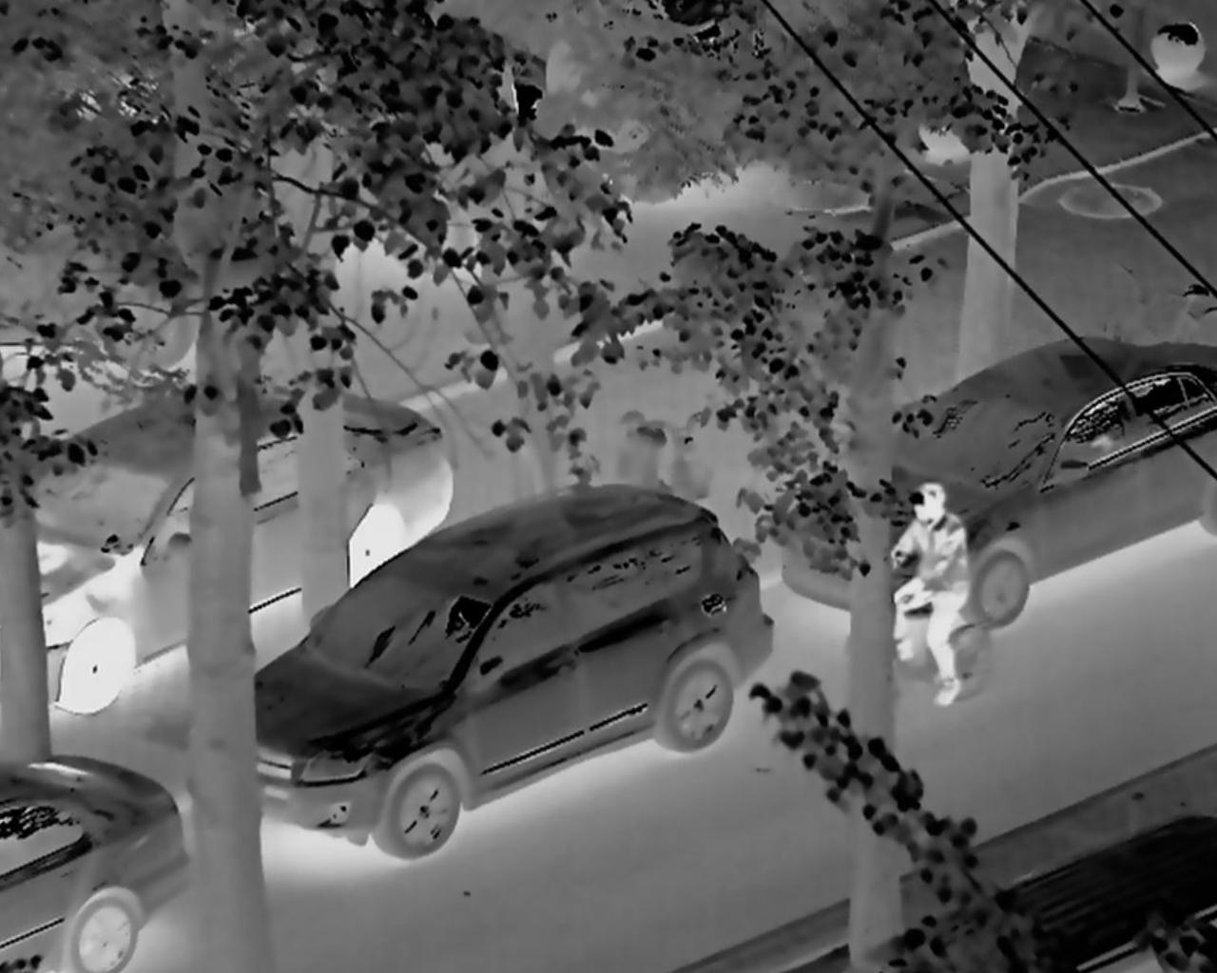person: (890, 468, 976, 724)
